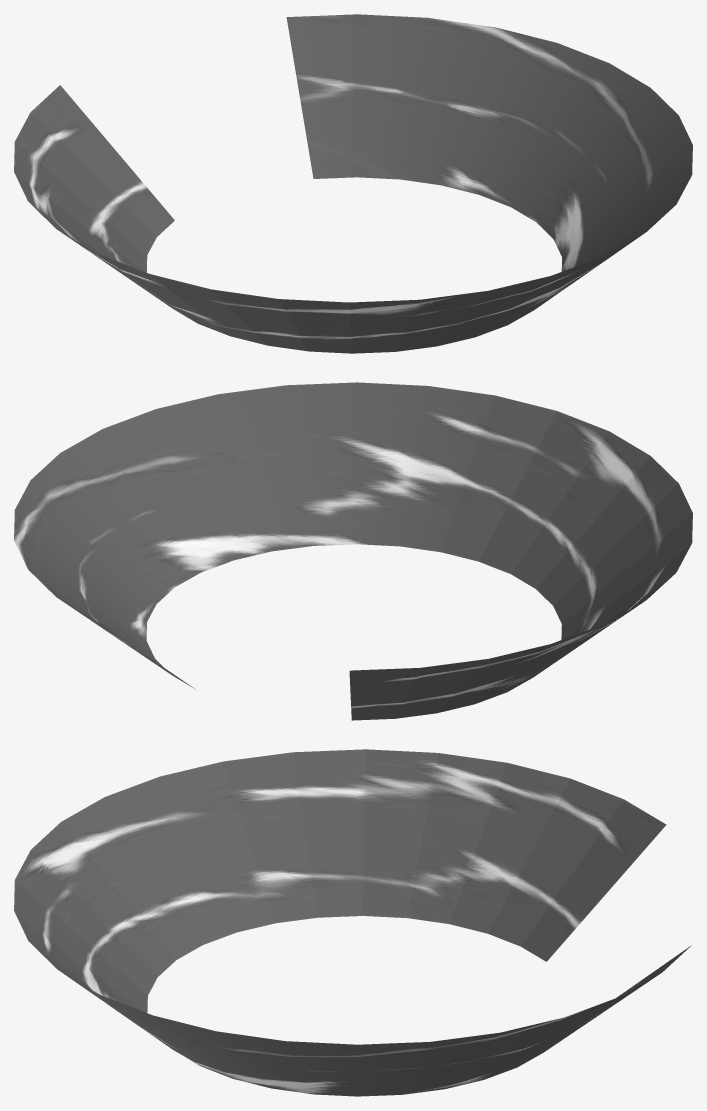
The model's file is yuantong_002.FBX.
3 views of the same model, one above another, from view 1: azimuth 30°, elevation 25°; view 2: azimuth 150°, elevation 25°; view 3: azimuth 270°, elevation 25° (orthographic). The views are drawn at different scales.
Parts seen in each view (by area): view 1: yuantong_002; view 2: yuantong_002; view 3: yuantong_002.
Part boxes in pixels (x1=…): yuantong_002: x1=14, y1=14, x2=692, y2=353; yuantong_002: x1=14, y1=382, x2=692, y2=720; yuantong_002: x1=14, y1=749, x2=691, y2=1096.
Size of the model in its own units: 69.29 by 11.94 by 67.32.
